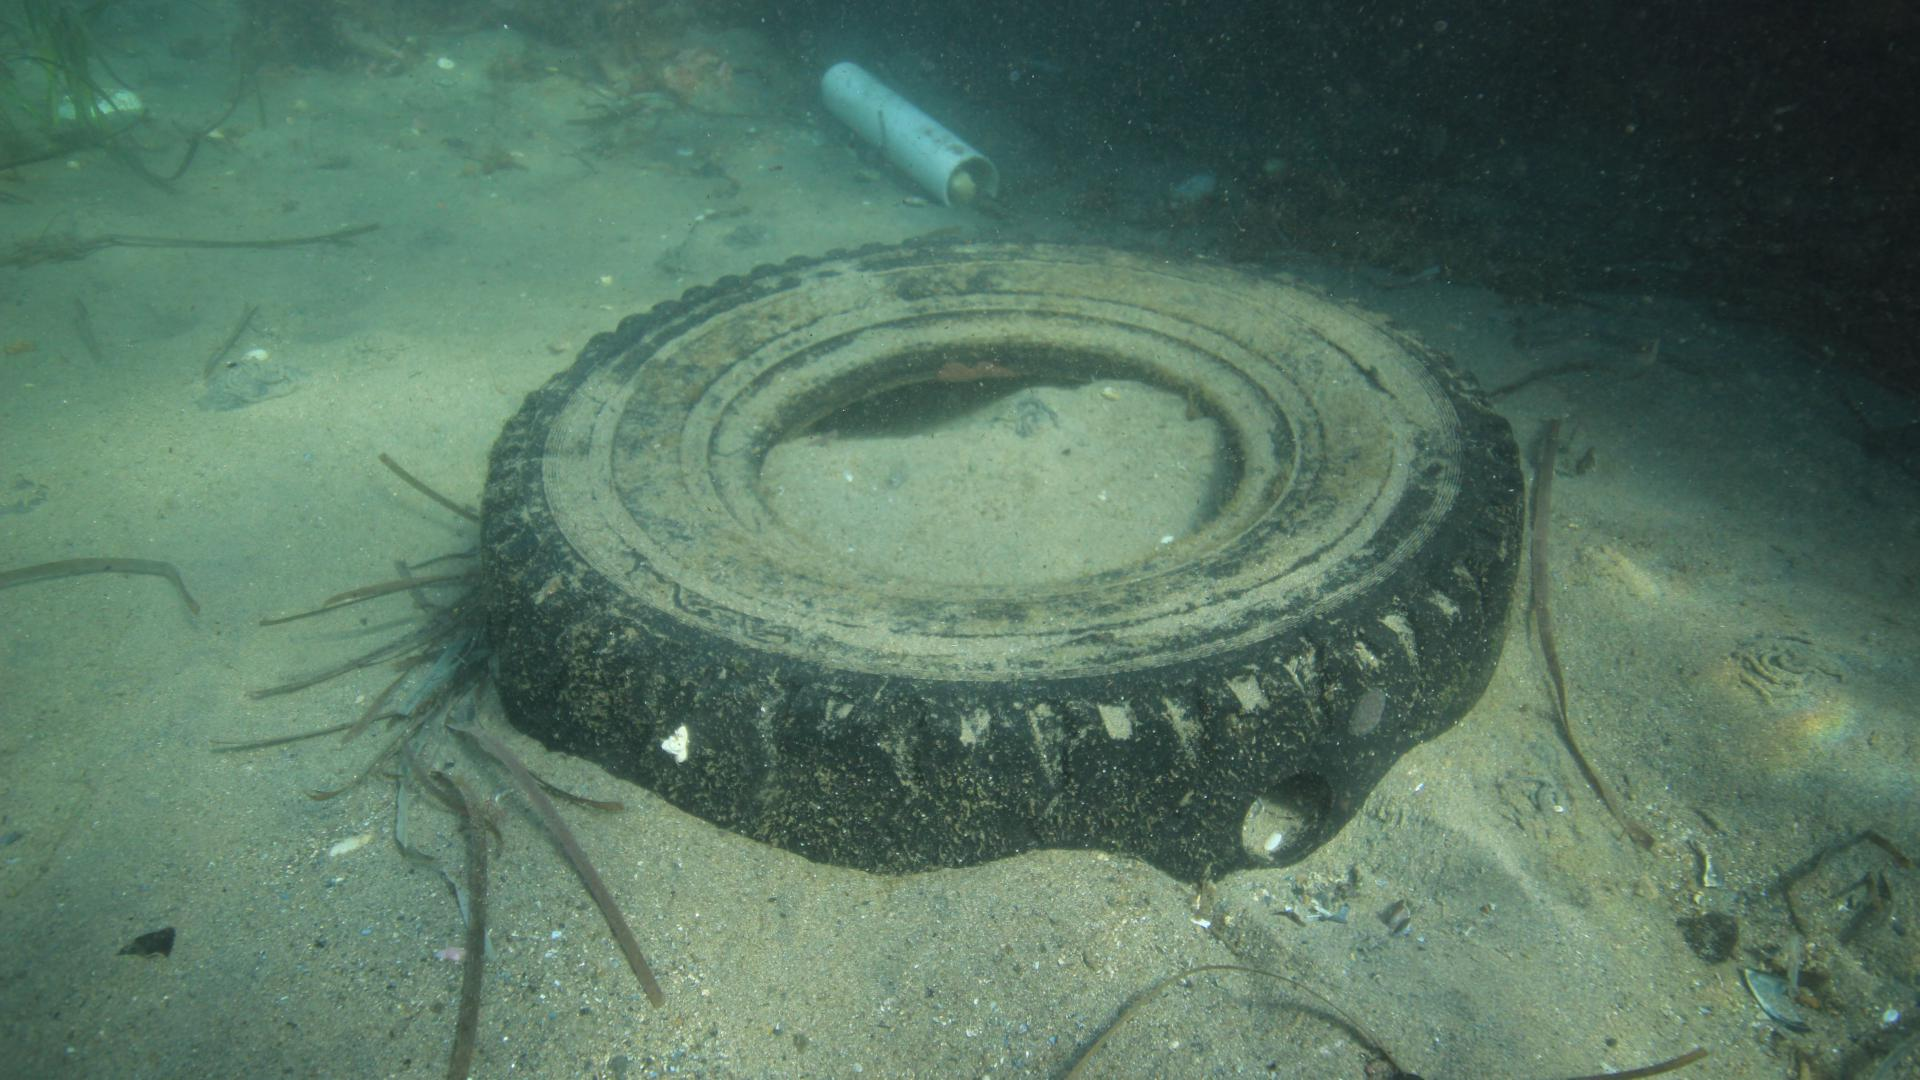tire: (476, 231, 1528, 884)
